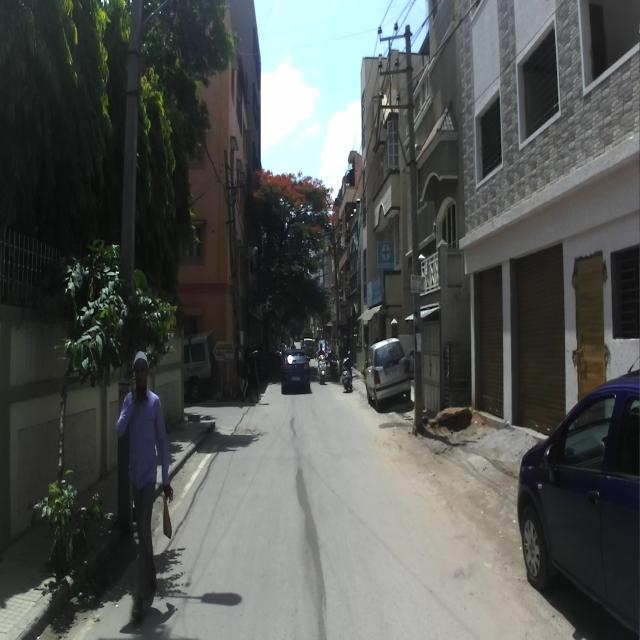Car: (516, 351, 640, 637)
Car_Hyundai: (362, 336, 412, 412)
Car_Maruti-Suzuki: (280, 347, 310, 393)
Car_Toyota: (181, 330, 217, 403)
